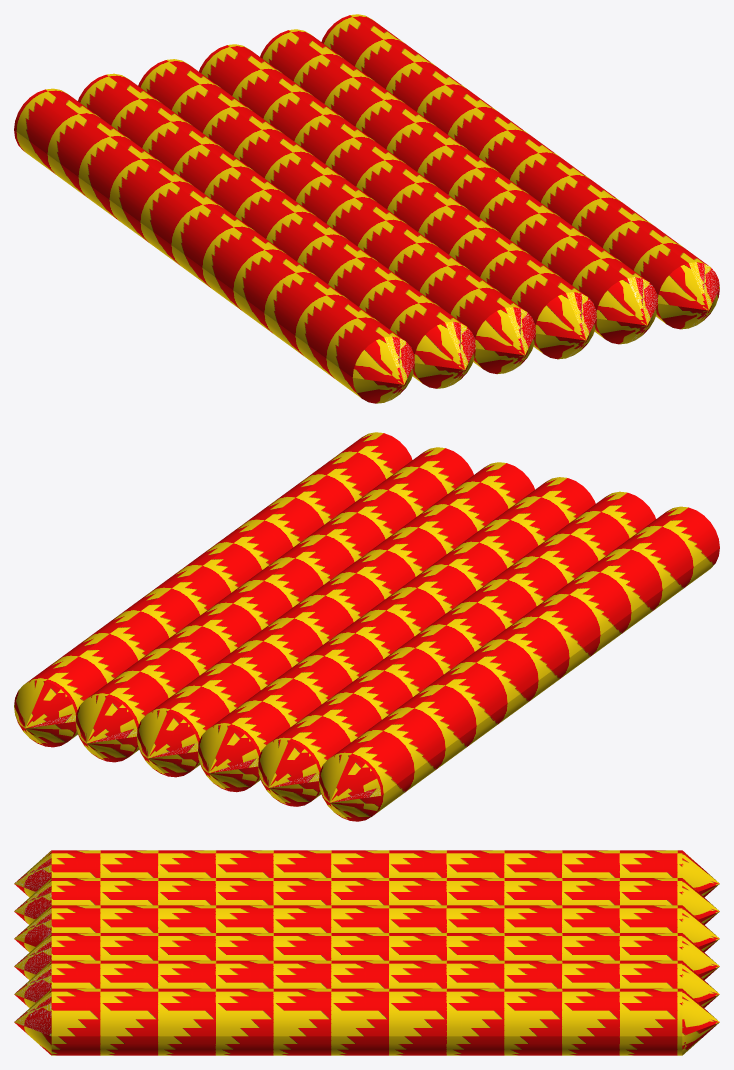
The model's file is Raft.dae.
3 views of the same model, one above another, from view 1: azimuth 30°, elevation 25°; view 2: azimuth 150°, elevation 25°; view 3: azimuth 270°, elevation 25° (orthographic). The views are drawn at different scales.
Visible parts, largest first — view 1: Log (×6); view 2: Log (×6); view 3: Log (×6).
Boxes of the visible parts, x1,y1,x2,y2 form: Log (×6): (14, 14, 719, 403); Log (×6): (14, 432, 719, 821); Log (×6): (14, 850, 719, 1055).
Bounding box in the file's own units: 82.12 × 147 × 14.
